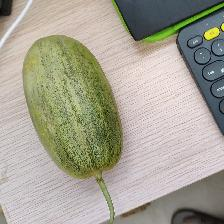gua: (19, 34, 137, 209)
